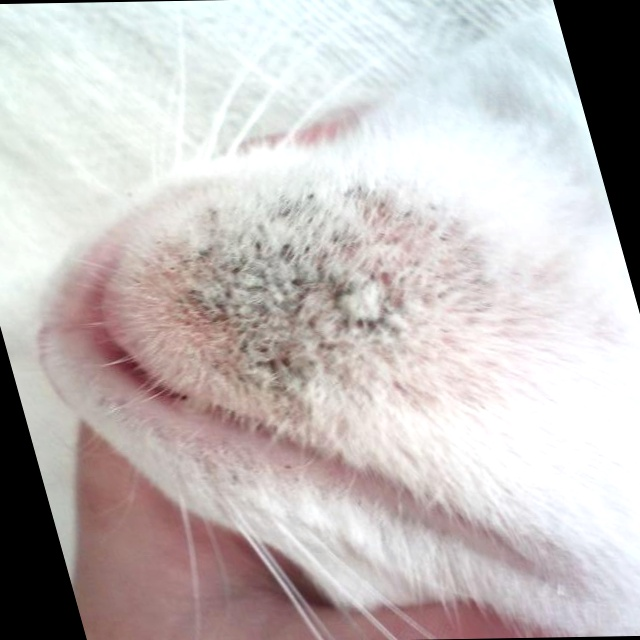acne: (140, 182, 446, 397)
